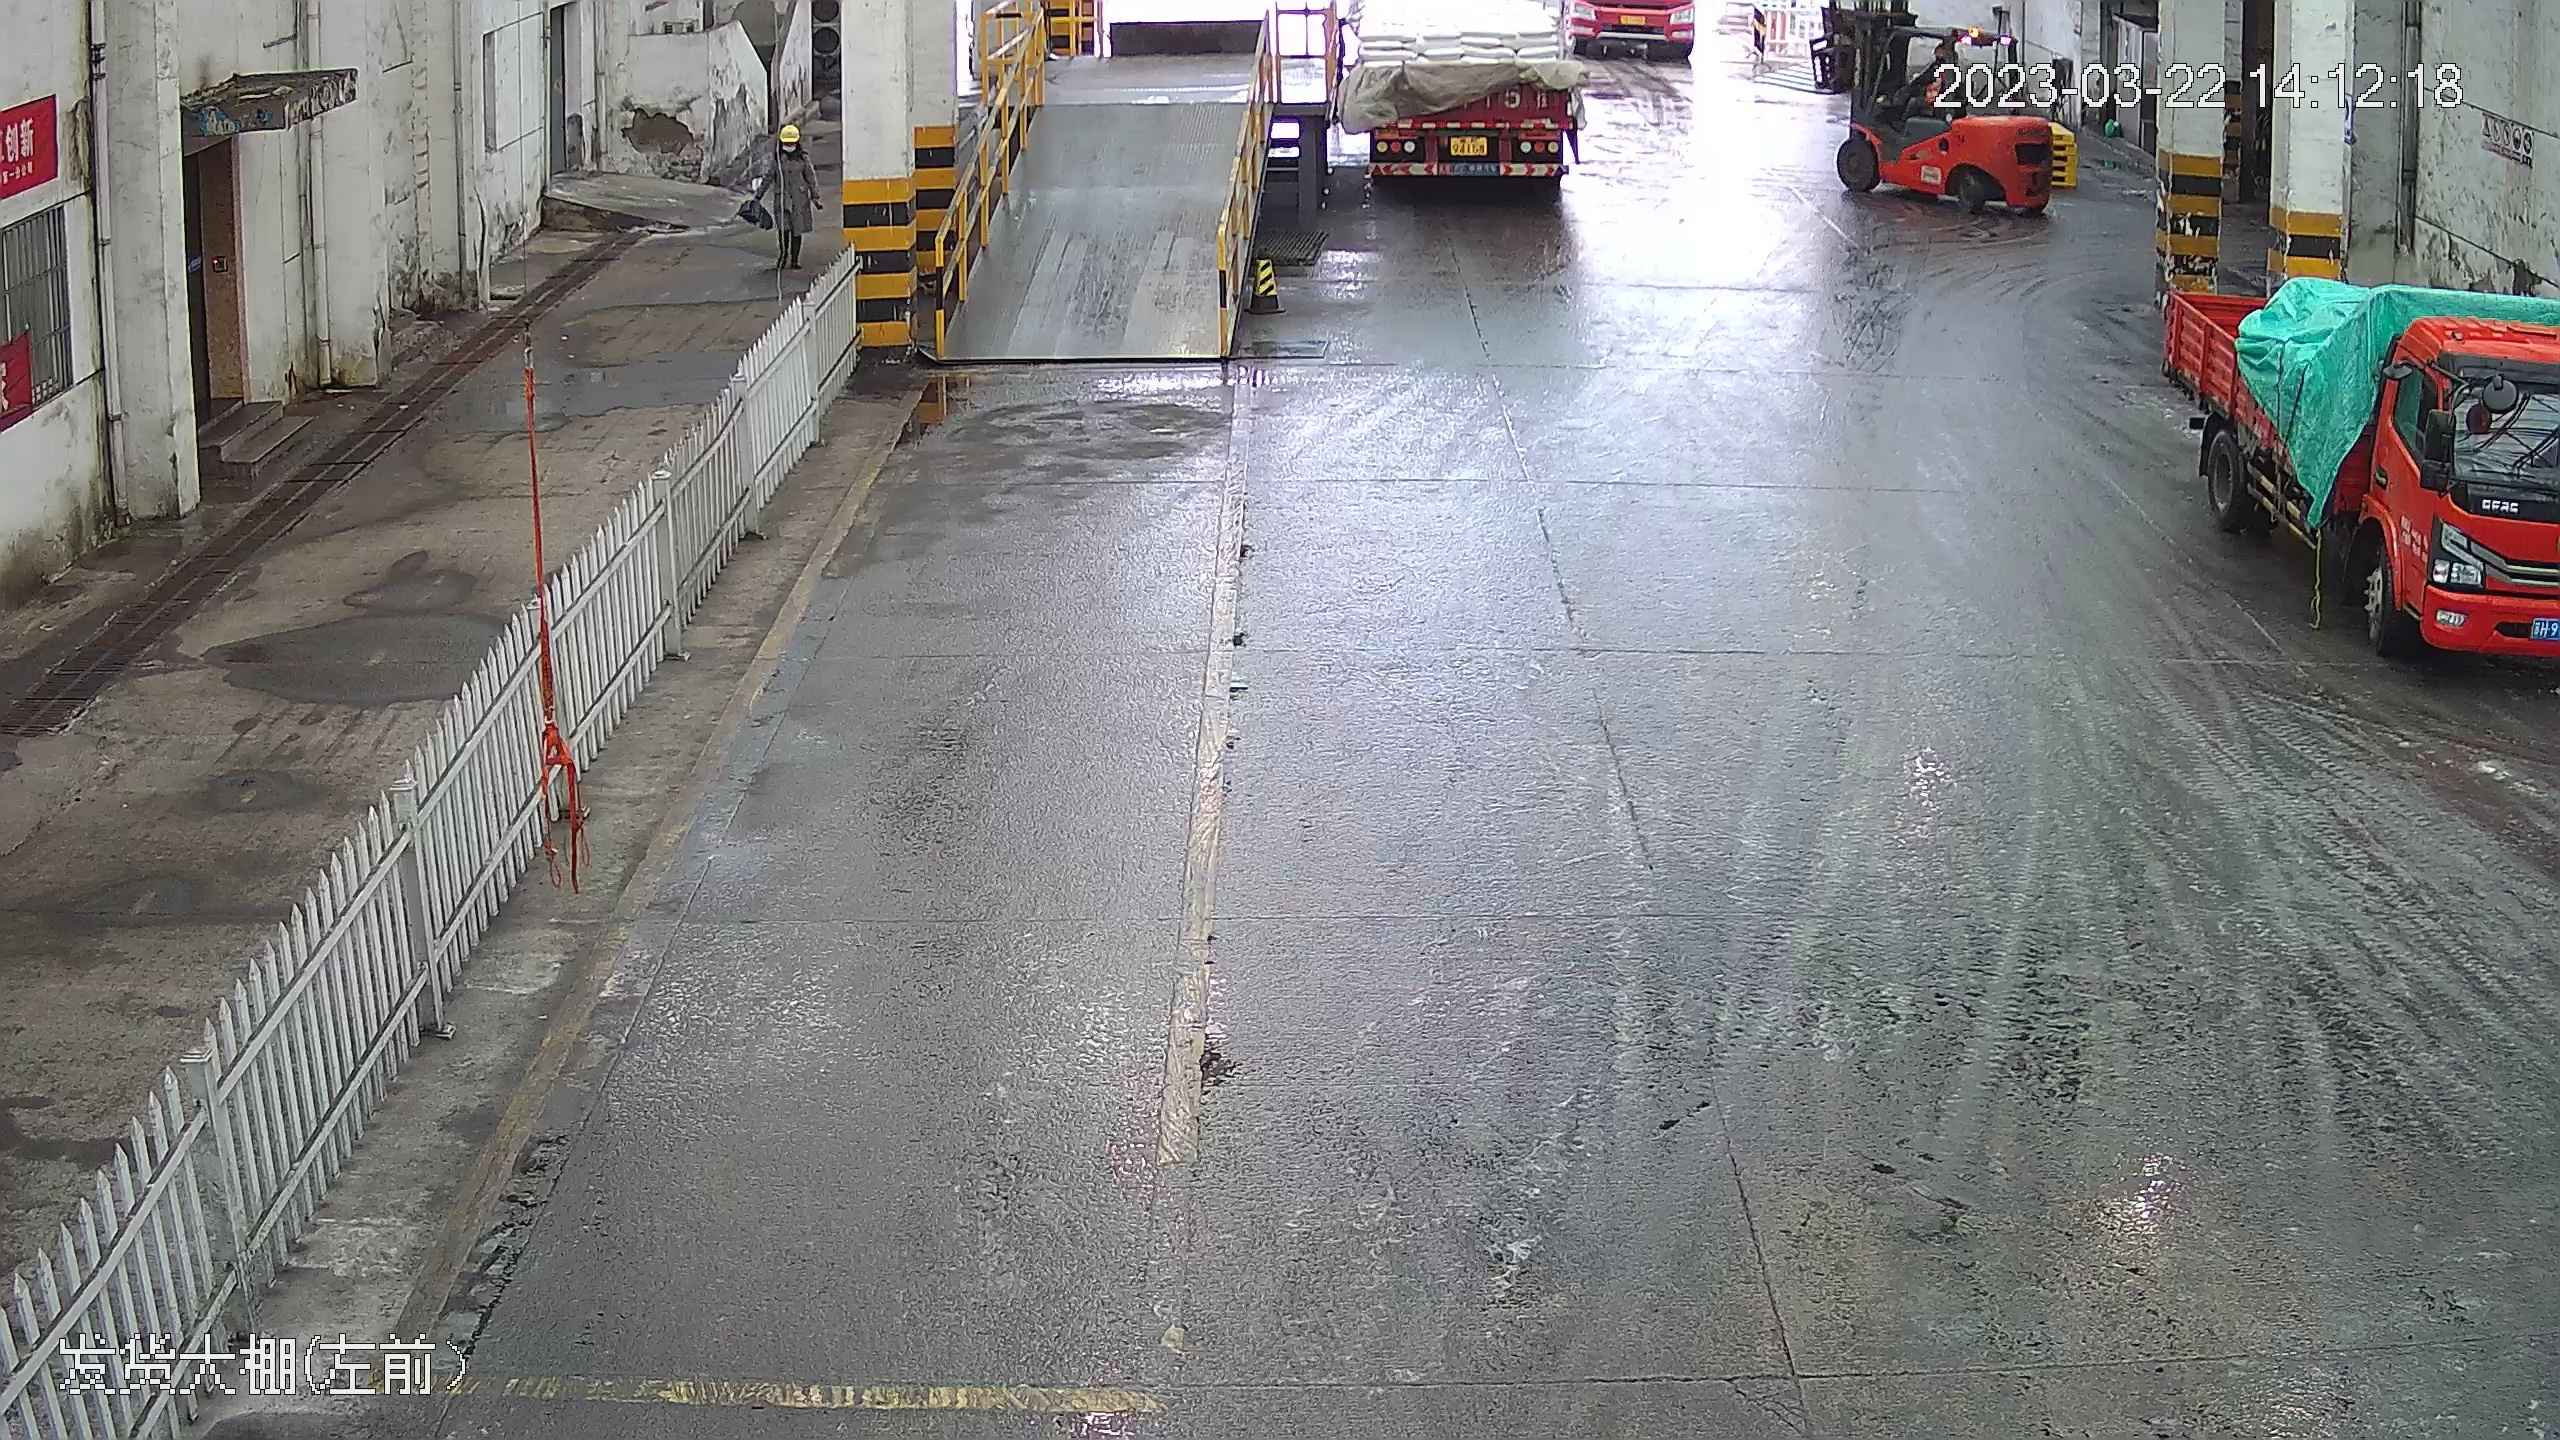head: (767, 121, 813, 173)
helmet: (776, 122, 804, 148)
people: (755, 118, 818, 275)
truck: (2158, 271, 2560, 682), (1329, 5, 1597, 191)
